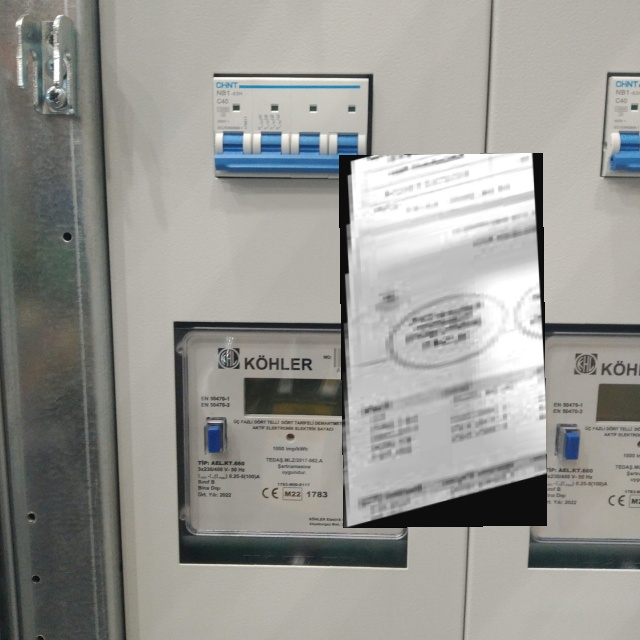electricity-bill: (338, 152, 546, 528)
